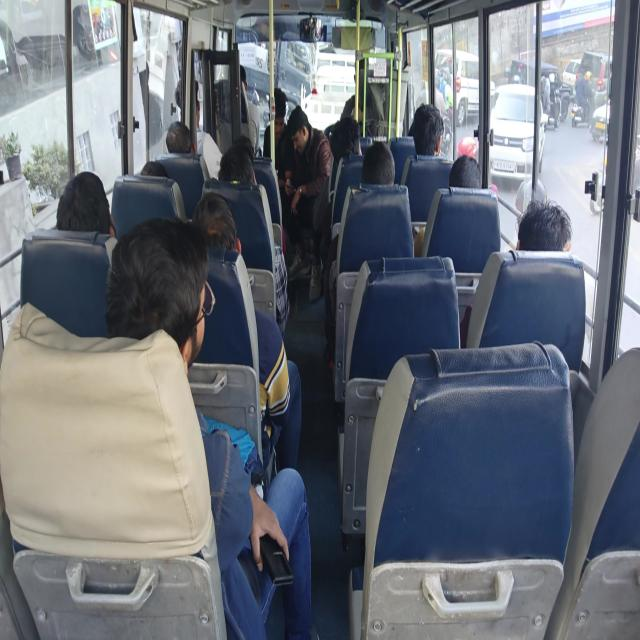person: (131, 224, 208, 367), (187, 194, 240, 274), (516, 206, 574, 276), (52, 165, 104, 238), (139, 149, 183, 205), (364, 150, 398, 212), (219, 146, 266, 189), (160, 122, 206, 160), (220, 53, 254, 99), (166, 80, 204, 120), (414, 110, 442, 162), (330, 124, 356, 178), (349, 53, 375, 103), (446, 162, 481, 199), (273, 81, 295, 135), (298, 113, 320, 164)
